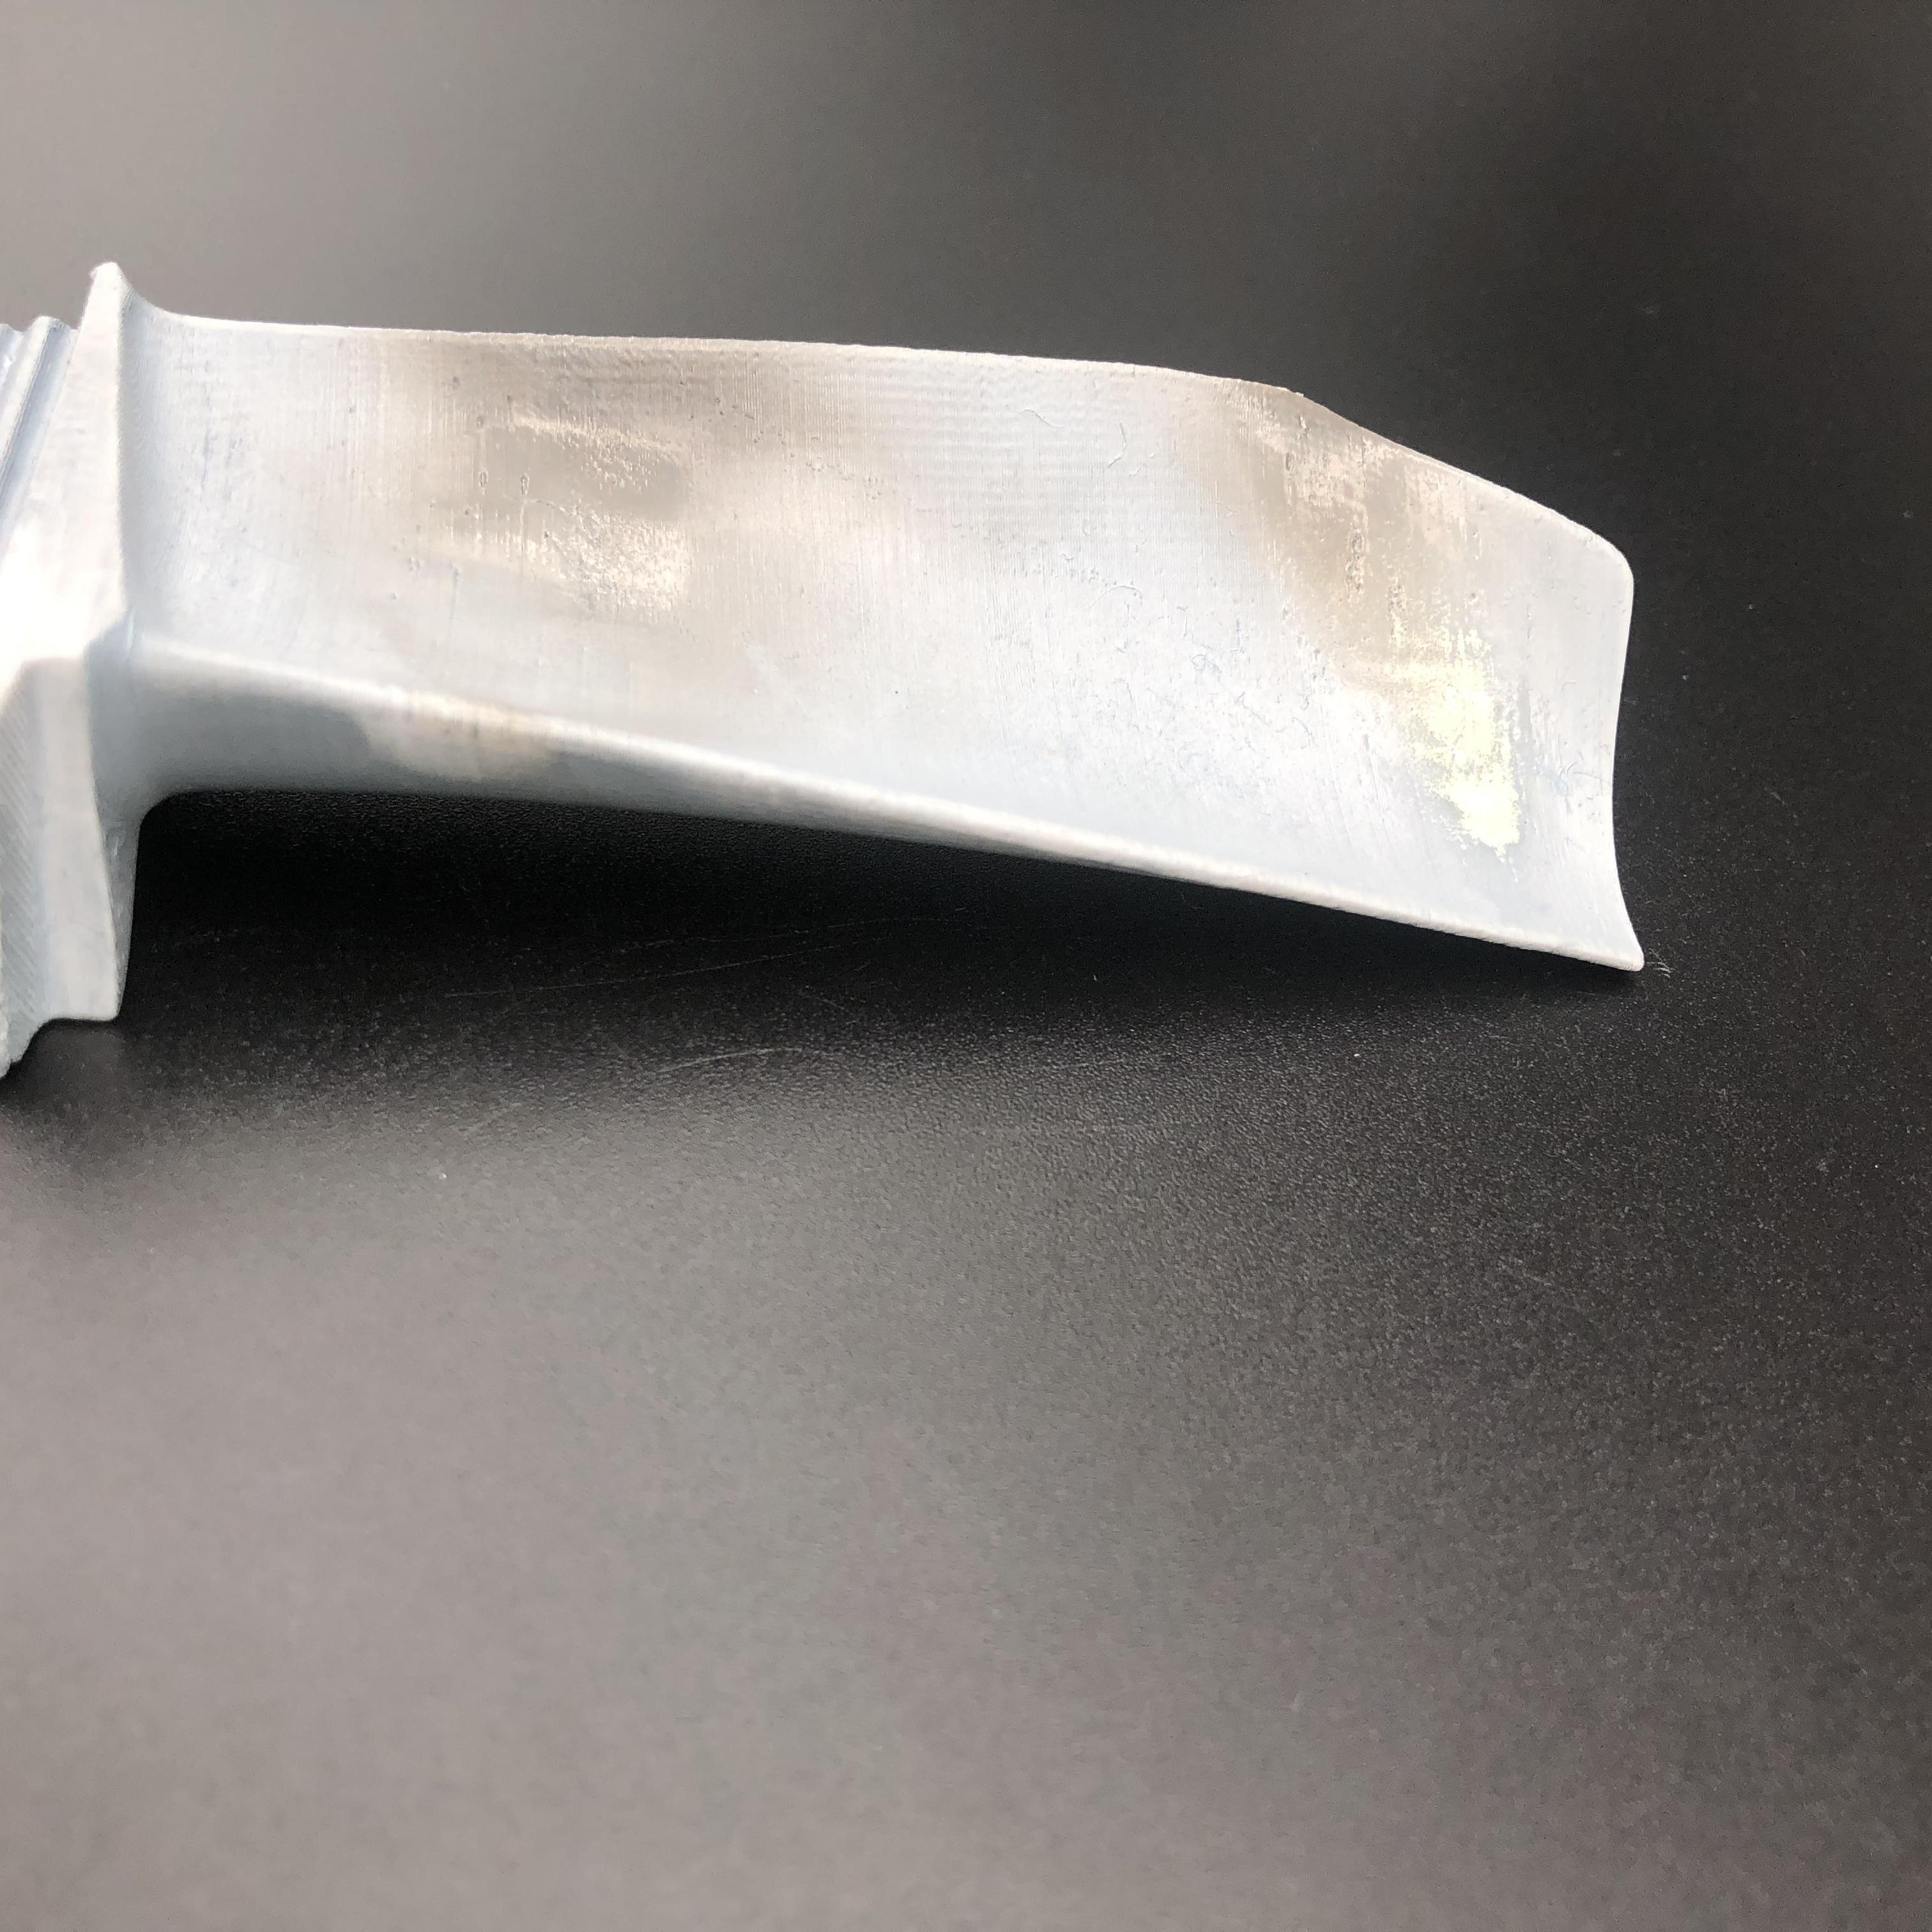ablation: (398, 331, 814, 725), (1205, 389, 1557, 846)
